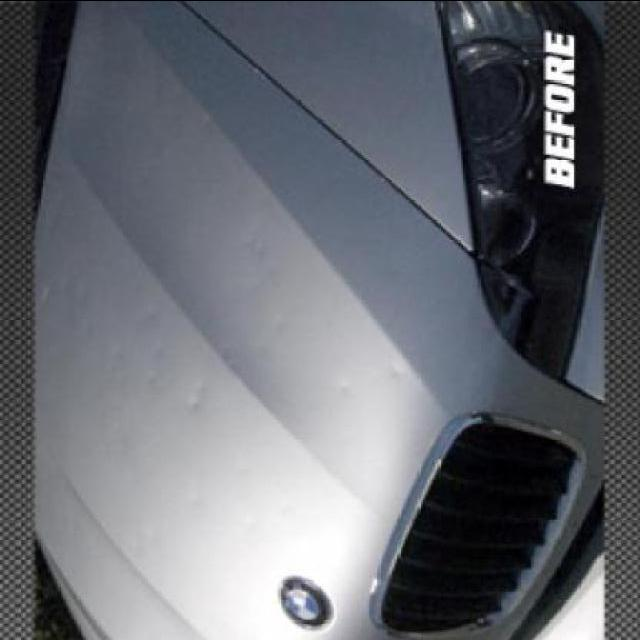bonnet-dent: (168, 160, 532, 638), (40, 185, 417, 640), (54, 2, 537, 266)
